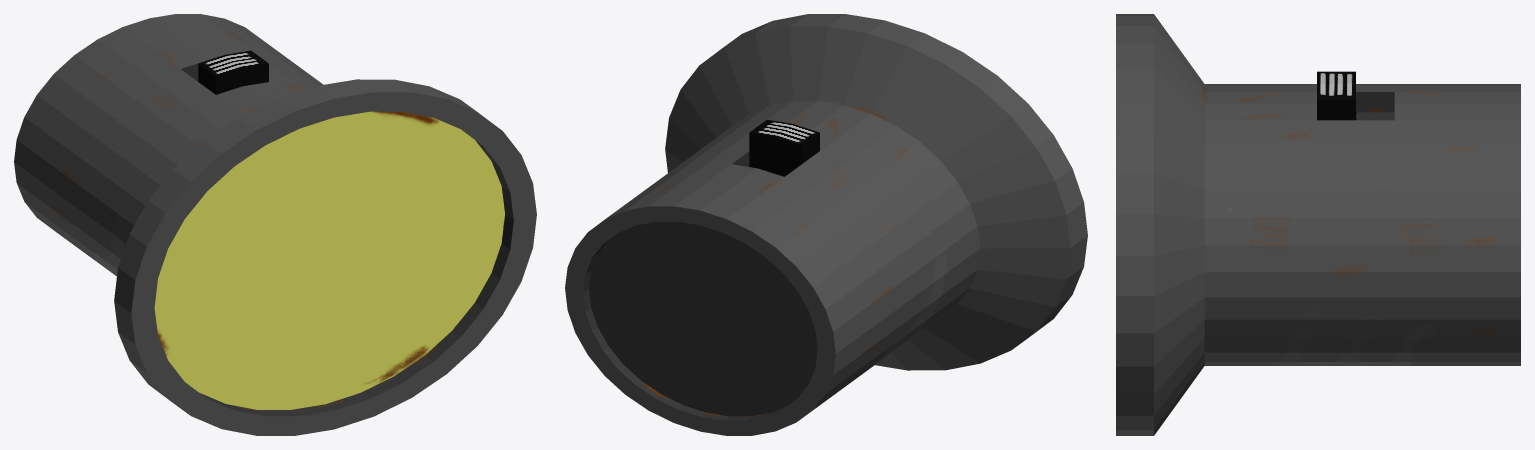
File: FillNozzle.glb
The picture shows the model from 3 angles, left to right: view 1: azimuth 30°, elevation 25°; view 2: azimuth 150°, elevation 25°; view 3: azimuth 270°, elevation 25°; orthographic projection. The views are drawn at different scales.
Parts seen in each view (by area): view 1: flashlight; view 2: flashlight; view 3: flashlight.
Boxes of the visible parts, x1,y1,x2,y2 form: flashlight: (14,14,536,435); flashlight: (565,14,1087,435); flashlight: (1116,14,1520,435).
Bounding box in the file's own units: 1.97 × 1.53 × 1.55.
Materials: 1 (1 with a texture image).
